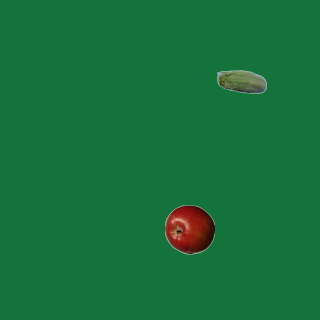Apple Braeburn: (164, 204, 214, 254)
Corn Husk: (216, 58, 266, 108)
